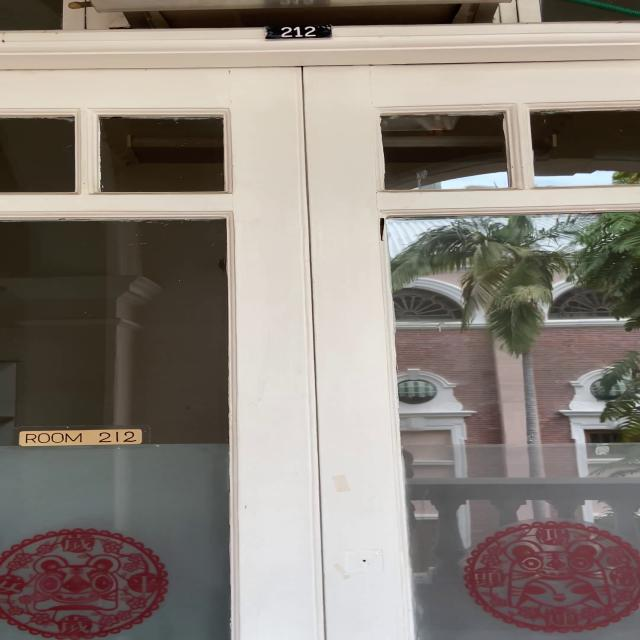room212: (259, 21, 334, 43)
room212Window: (10, 422, 156, 452)
